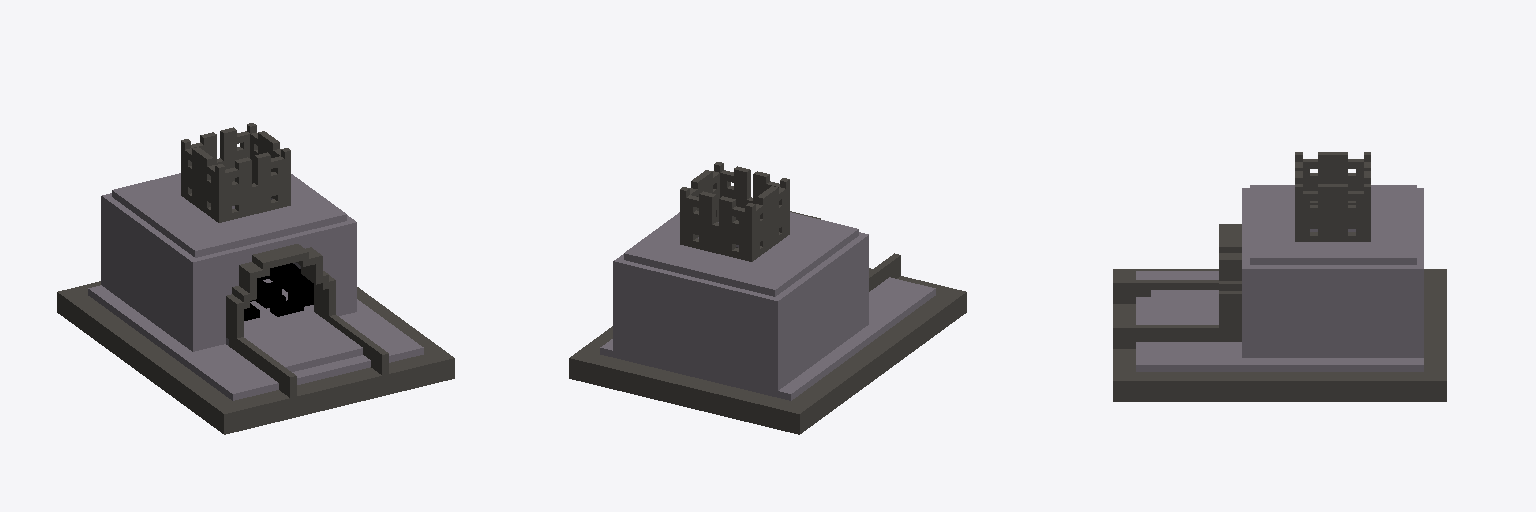
3 views of the same model, side by side, from view 1: azimuth 30°, elevation 25°; view 2: azimuth 150°, elevation 25°; view 3: azimuth 270°, elevation 25° (orthographic).
Parts seen in each view (by area): view 1: object 1; view 2: object 1; view 3: object 1.
Part boxes in pixels (left/top/right/bottom): object 1: left=57, top=123, right=454, bottom=434; object 1: left=569, top=162, right=966, bottom=434; object 1: left=1113, top=152, right=1446, bottom=401.
Size of the model in its own units: 3.5 by 2.6 by 4.4.
Materials: 1 (1 with a texture image).